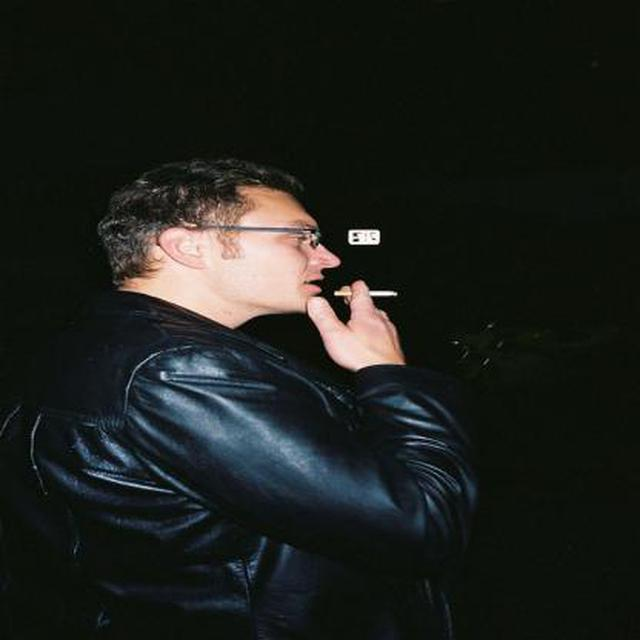smoking: (334, 292, 396, 296)
